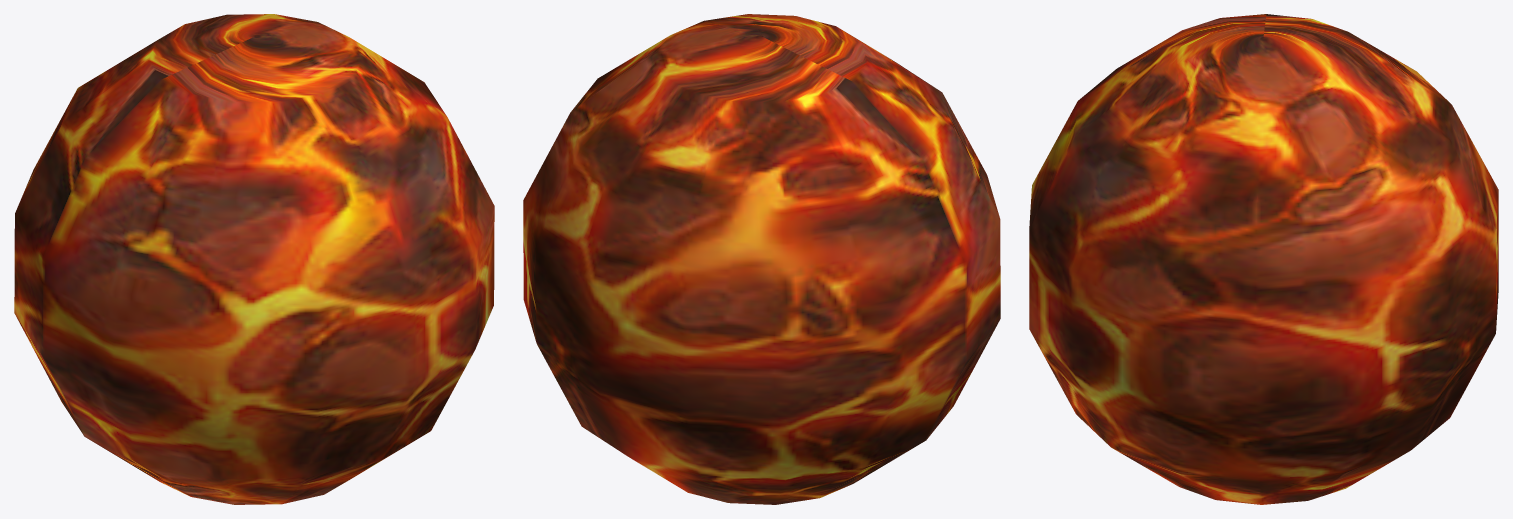
Rendered from hero_invoker_n3s_d_mover_mdx.gltf.
3 renders of one model, left to right at view 1: azimuth 30°, elevation 25°; view 2: azimuth 150°, elevation 25°; view 3: azimuth 270°, elevation 25°, orthographic.
Parts seen in each view (by area): view 1: ÆíÇóÕß-»ìãçÔÉÊ¯; view 2: ÆíÇóÕß-»ìãçÔÉÊ¯; view 3: ÆíÇóÕß-»ìãçÔÉÊ¯.
Part boxes in pixels (x1,y1,x2,y2): ÆíÇóÕß-»ìãçÔÉÊ¯: [14, 14, 494, 504]; ÆíÇóÕß-»ìãçÔÉÊ¯: [523, 14, 1000, 504]; ÆíÇóÕß-»ìãçÔÉÊ¯: [1029, 14, 1498, 504].
Bounding box in the file's own units: 165 × 169 × 161.
